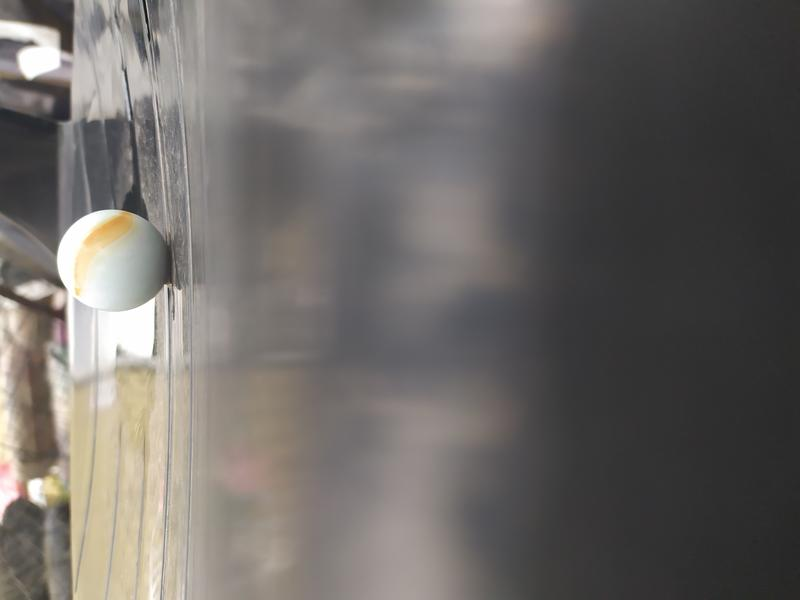Warning: (54, 207, 173, 314)
